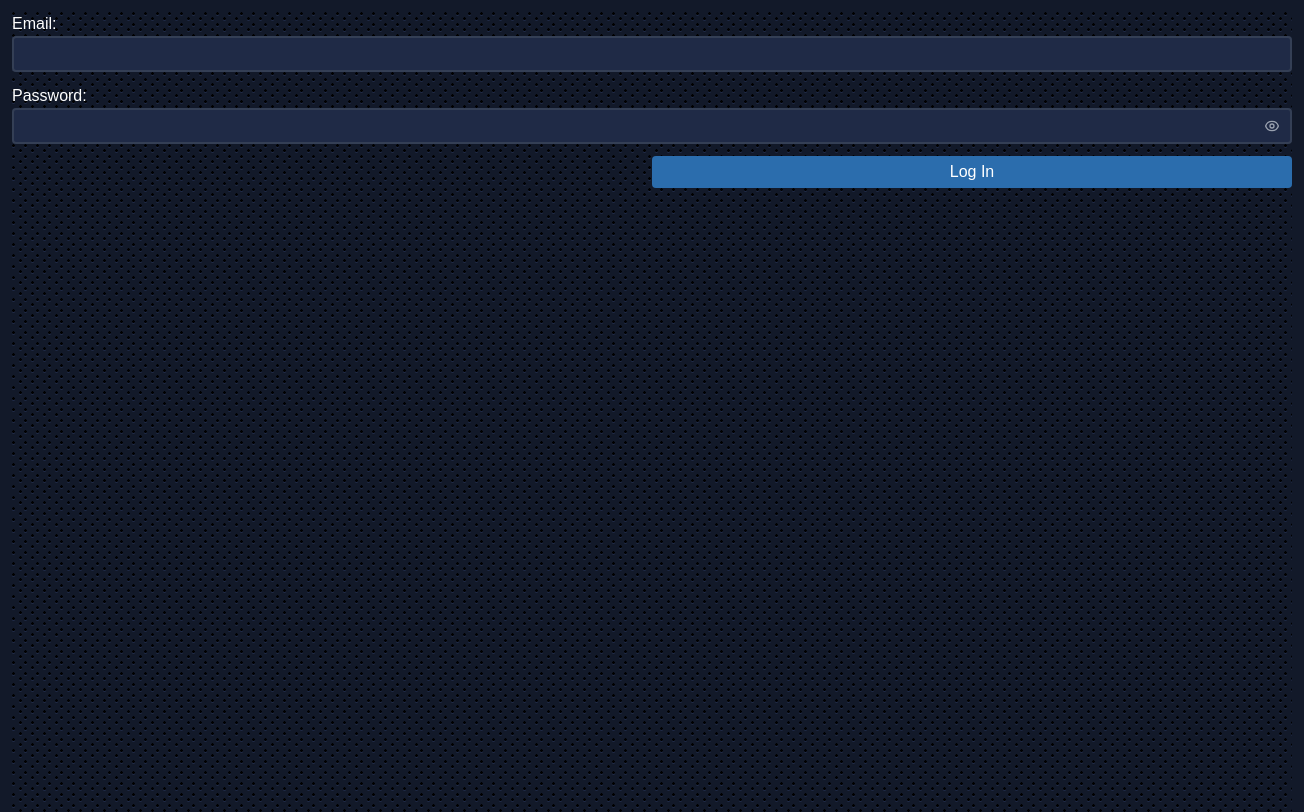
Test: LoginForm › shows error if only password is provided
The width and height of the screenshot is (1304, 812).
Type "testpassword123" into the password field labelled "Password:".
click(652, 126); type("testpassword123")  # box [12,108,1292,144]
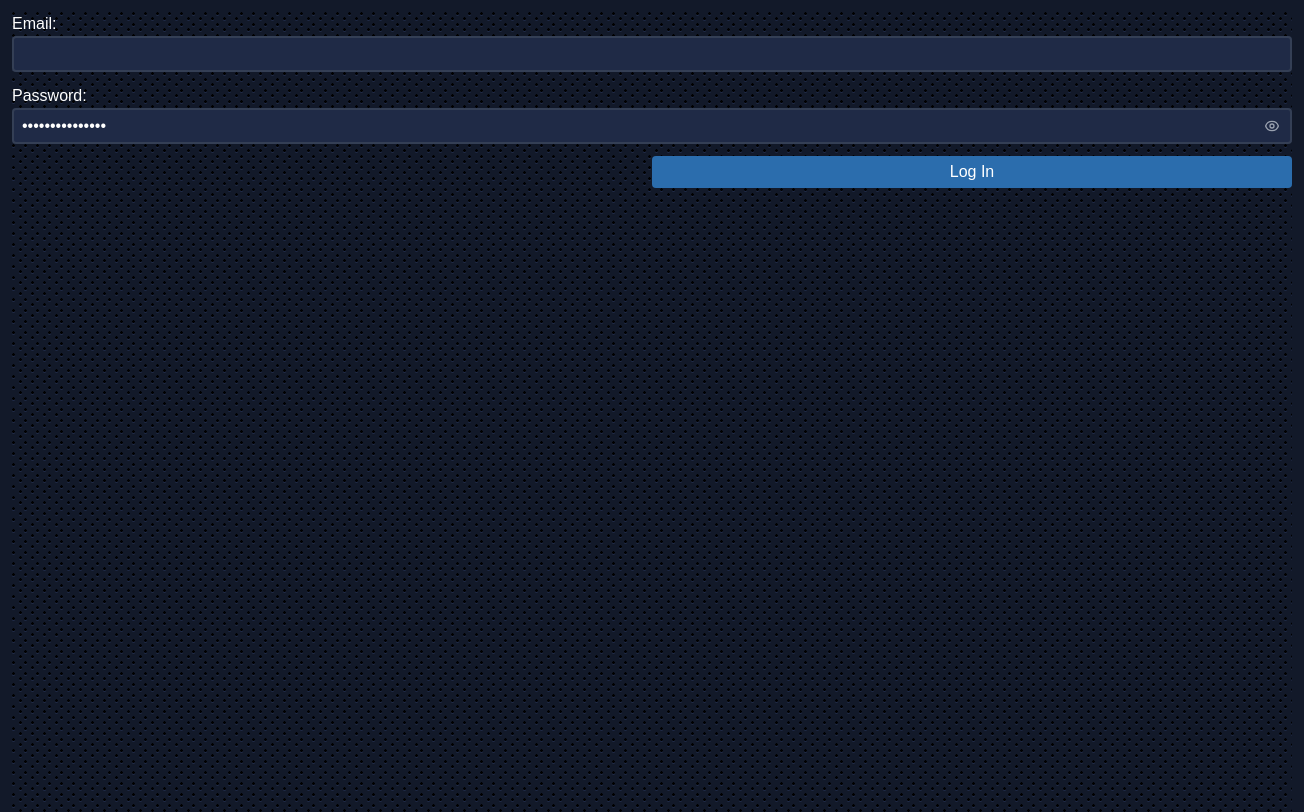
Submit the form named "login-form", box [12,12,1292,188]
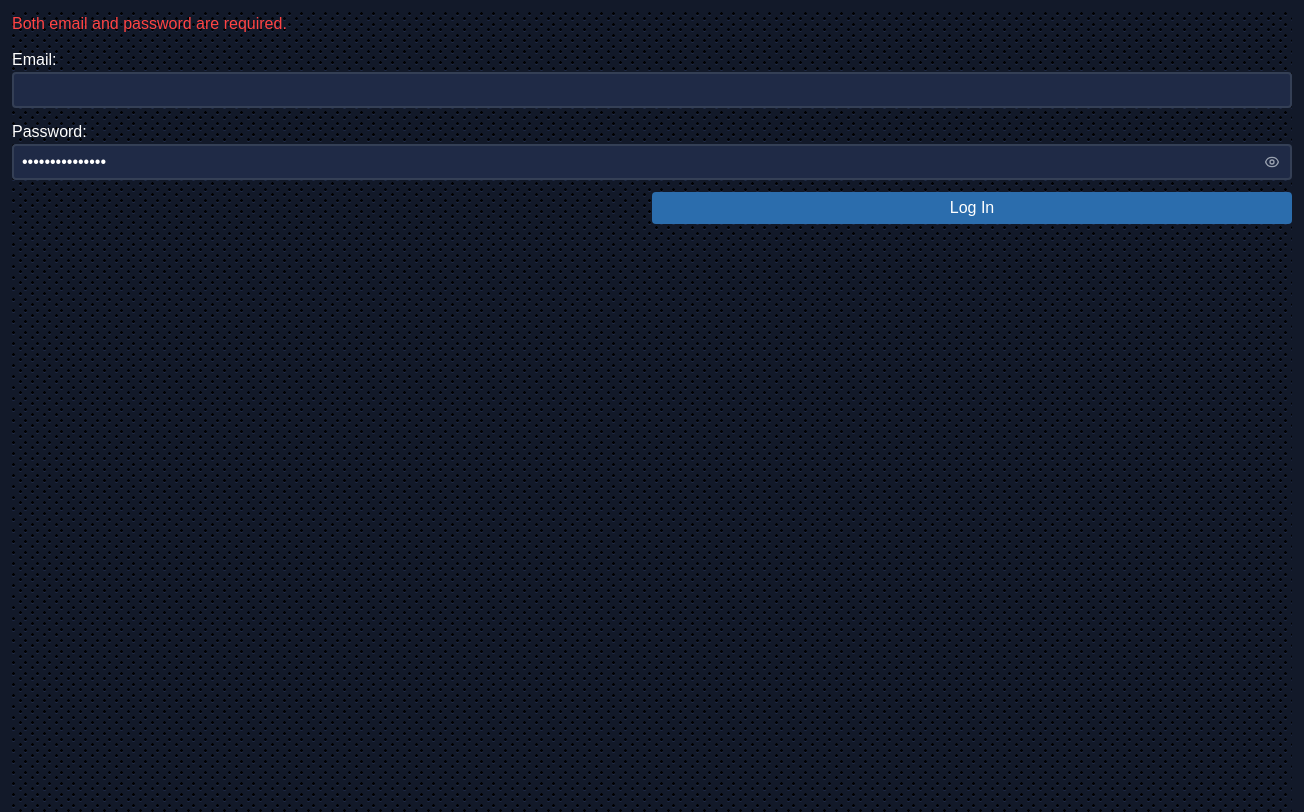
Expected: the text "Both email and password are required." is shown, [12,15,287,32]
